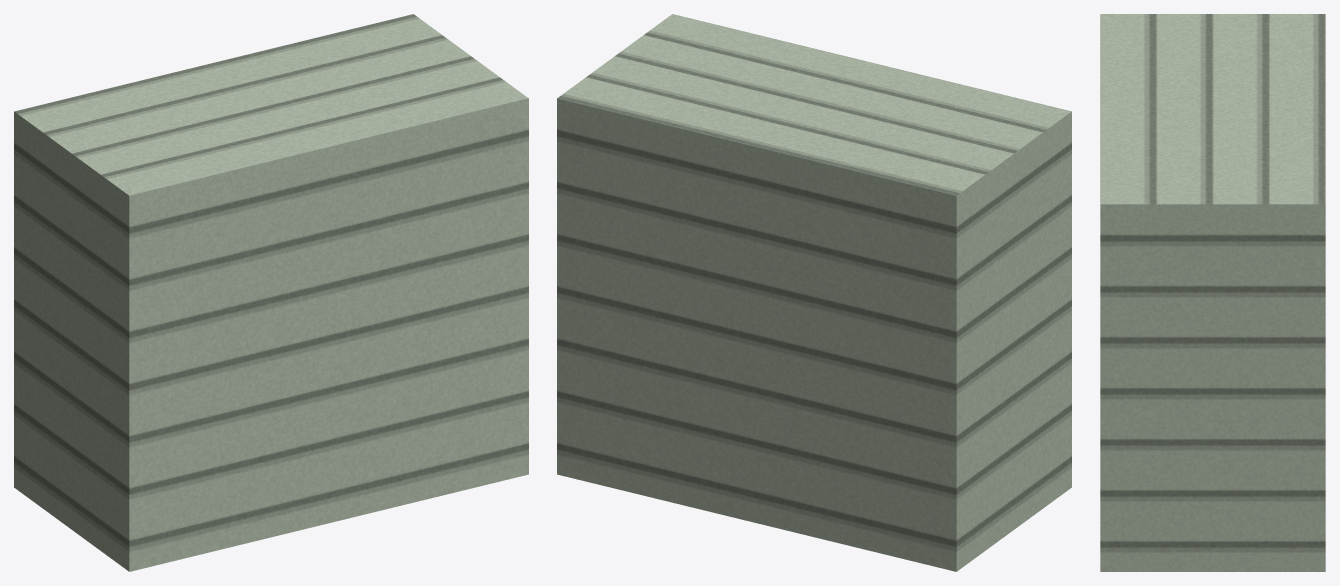
File: hobbyist_workshop_buildout.glb
3 renders of one model, left to right at view 1: azimuth 30°, elevation 25°; view 2: azimuth 150°, elevation 25°; view 3: azimuth 270°, elevation 25°, orthographic. The views are drawn at different scales.
Parts seen in each view (by area): view 1: hobbyist_workshop_buildout-col; view 2: hobbyist_workshop_buildout-col; view 3: hobbyist_workshop_buildout-col.
Boxes of the visible parts, x1,y1,x2,y2 form: hobbyist_workshop_buildout-col: (14, 14, 528, 571); hobbyist_workshop_buildout-col: (557, 14, 1071, 571); hobbyist_workshop_buildout-col: (1100, 14, 1325, 571).
Bounding box in the file's own units: 1 × 0.9 × 0.5.
Materials: 1 (1 with a texture image).
